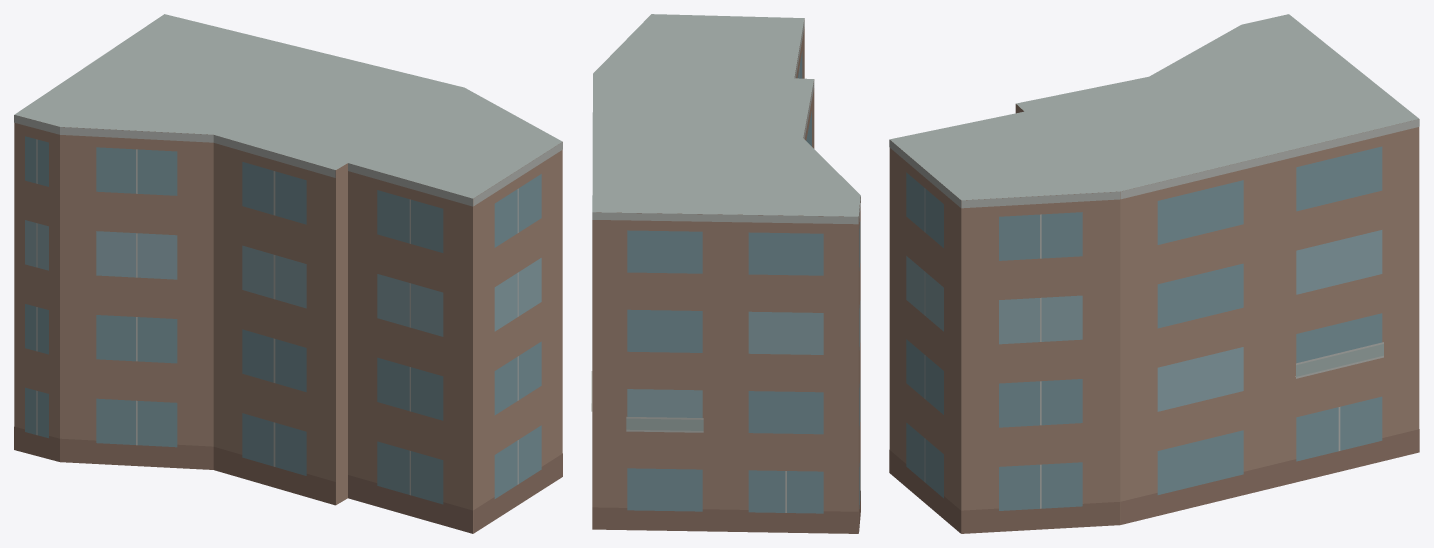
Rendered from survey-upis-32711469.glb.
The picture shows the model from 3 angles, left to right: view 1: azimuth 30°, elevation 25°; view 2: azimuth 150°, elevation 25°; view 3: azimuth 270°, elevation 25°; orthographic projection. The views are drawn at different scales.
Visible parts, largest first — view 1: survey-upis-32711469.tmp; view 2: survey-upis-32711469.tmp; view 3: survey-upis-32711469.tmp.
Boxes of the visible parts, bbox=[...] form: survey-upis-32711469.tmp: bbox=[14, 14, 562, 533]; survey-upis-32711469.tmp: bbox=[591, 14, 860, 533]; survey-upis-32711469.tmp: bbox=[889, 14, 1419, 533].
Size of the model in its own units: 12.29 by 10.25 by 14.77.
